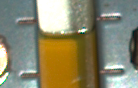border: (97, 66, 128, 77), (95, 13, 124, 23), (13, 16, 39, 26), (18, 70, 41, 80)
liquidlevel: (36, 29, 98, 44)
